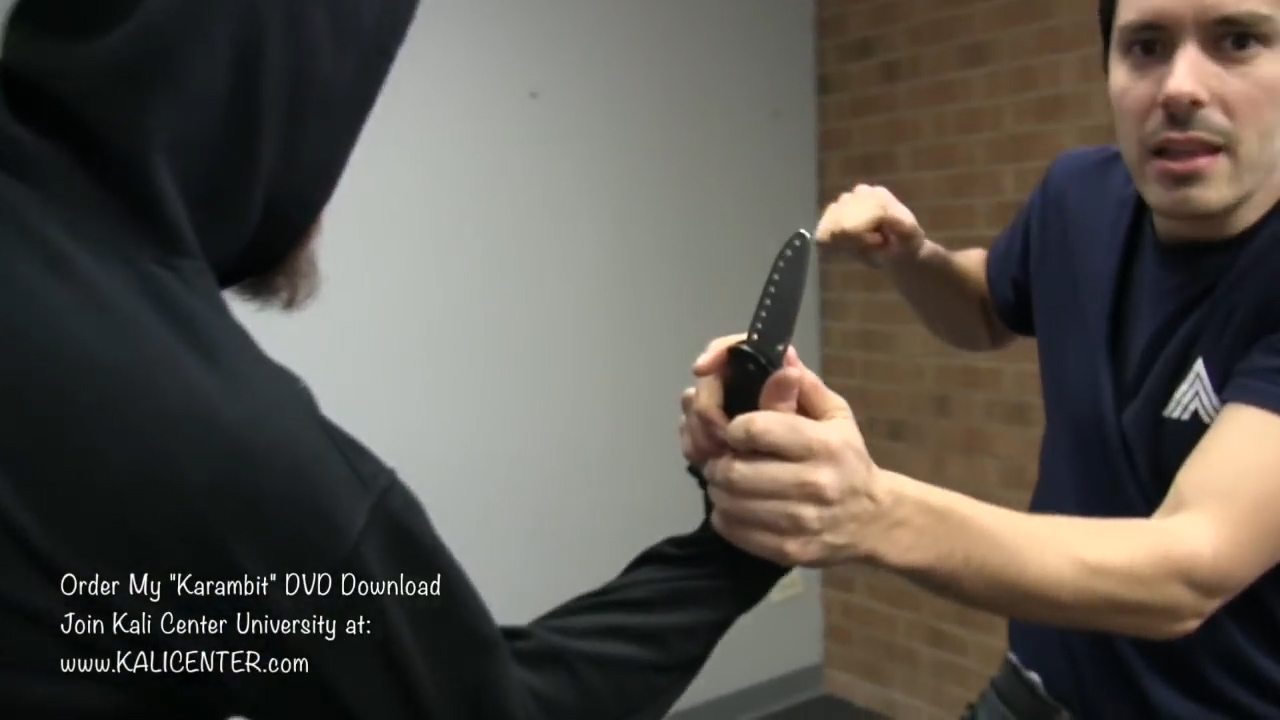knife: (669, 217, 821, 465)
